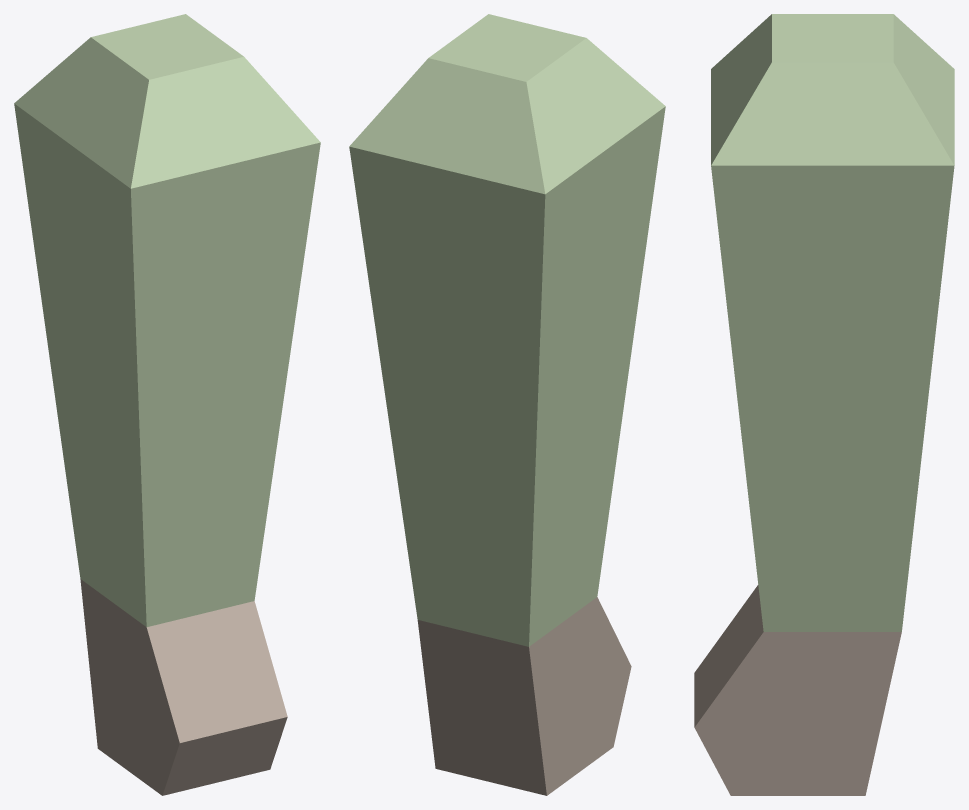
The model's file is SoldierMutant-LowerArm.fbx.
3 renders of one model, left to right at view 1: azimuth 30°, elevation 25°; view 2: azimuth 150°, elevation 25°; view 3: azimuth 270°, elevation 25°, orthographic. The views are drawn at different scales.
Visible parts, largest first — view 1: SoldierMutantLowerArm; view 2: SoldierMutantLowerArm; view 3: SoldierMutantLowerArm.
Boxes of the visible parts, x1,y1,x2,y2 form: SoldierMutantLowerArm: (14,14,320,795); SoldierMutantLowerArm: (349,14,665,795); SoldierMutantLowerArm: (694,14,954,795).
Bounding box in the file's own units: 0.1568 × 0.552 × 0.1781.
